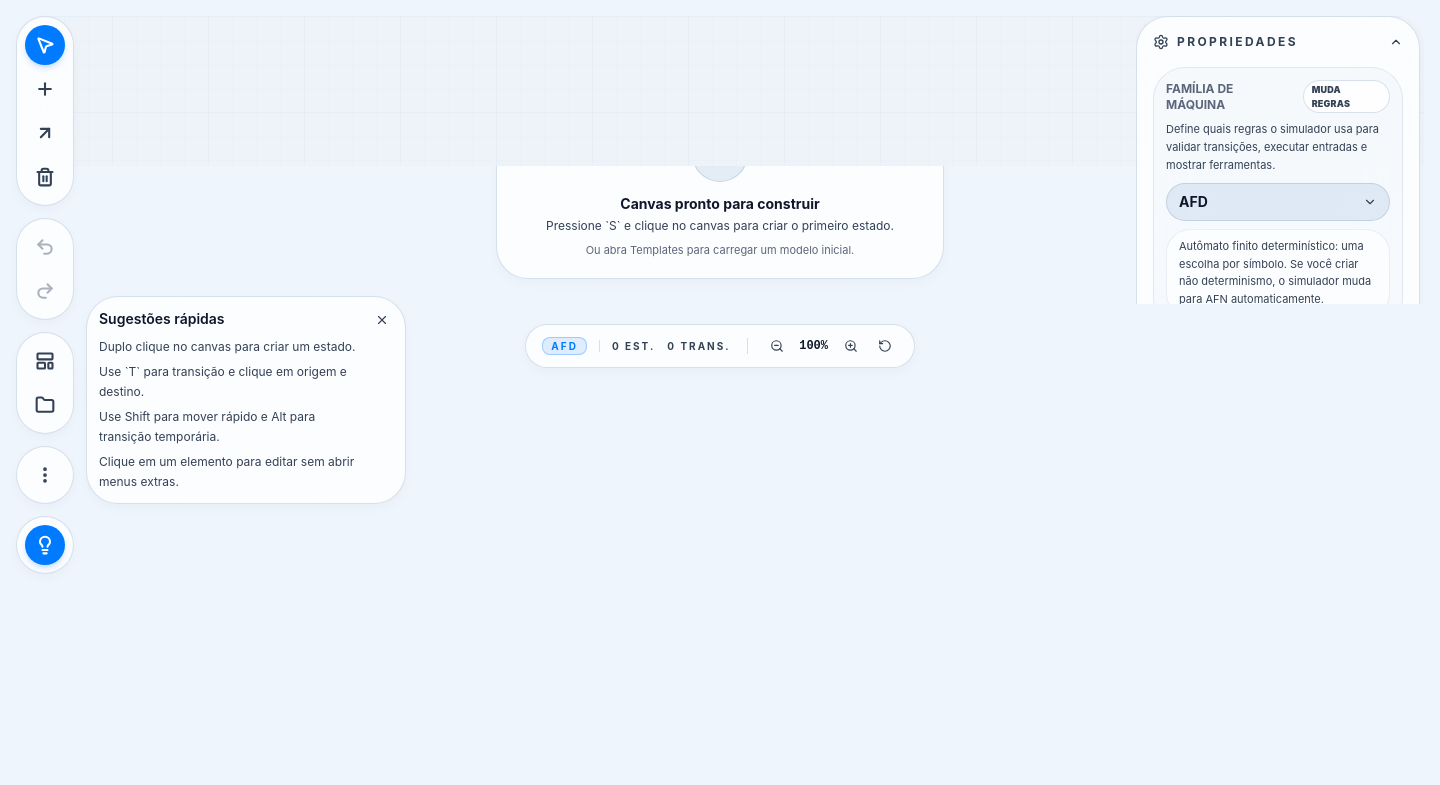
AutomatonEditor › abre o fluxo de importação de gramática pela barra de utilidades
Click the button named "Mais".
click(45, 475)  # box [25,455,65,495]
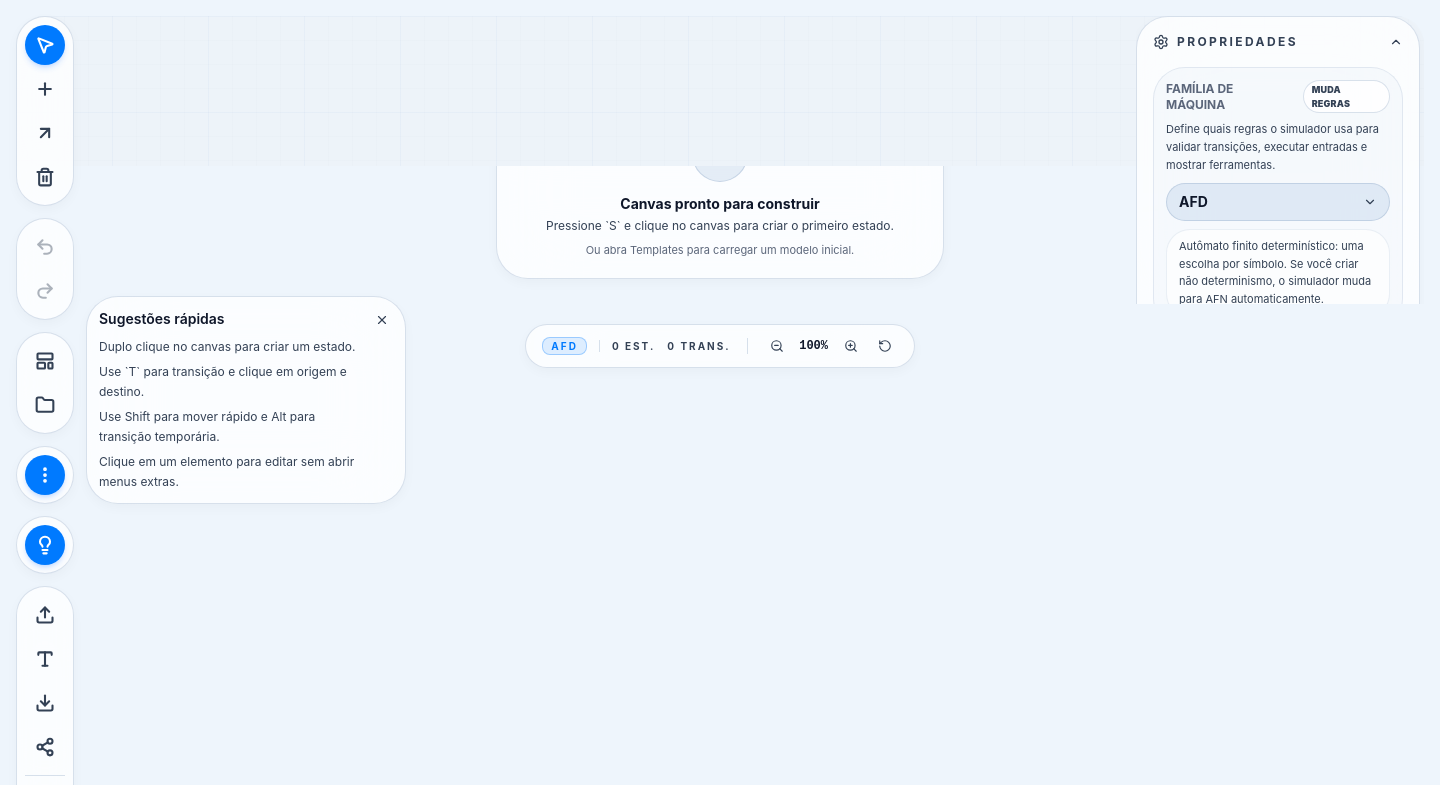
Click the button named "Importar gramática".
click(45, 659)  # box [25,639,65,679]
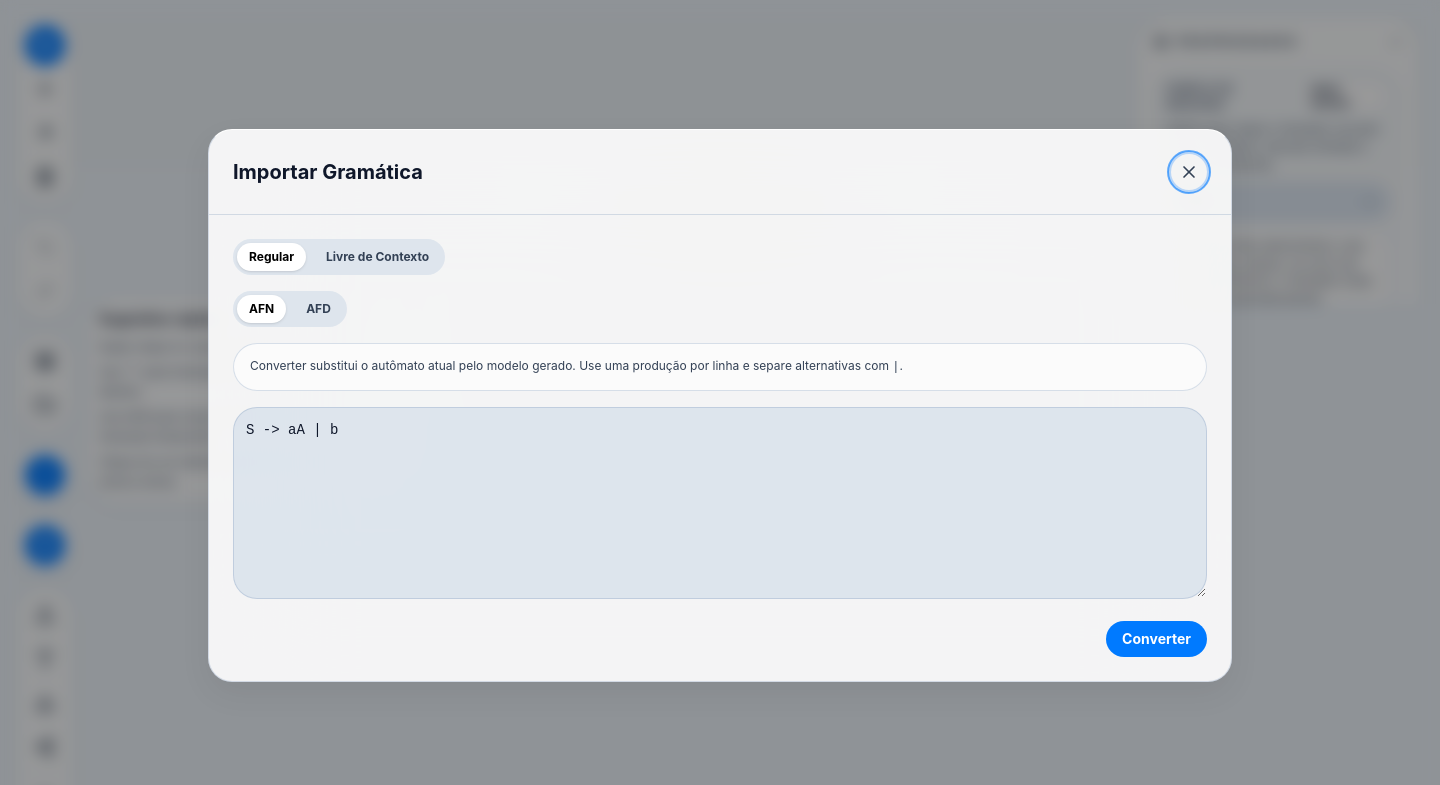
Expected: the heading "Importar Gramática" is shown, [233,158,423,186]
Expected: the text box named "Fonte da gramática" holds "S -> aA | b", [233,406,1207,598]
Expected: the text "Converter substitui o autômato atual" is shown, [250,358,892,373]
